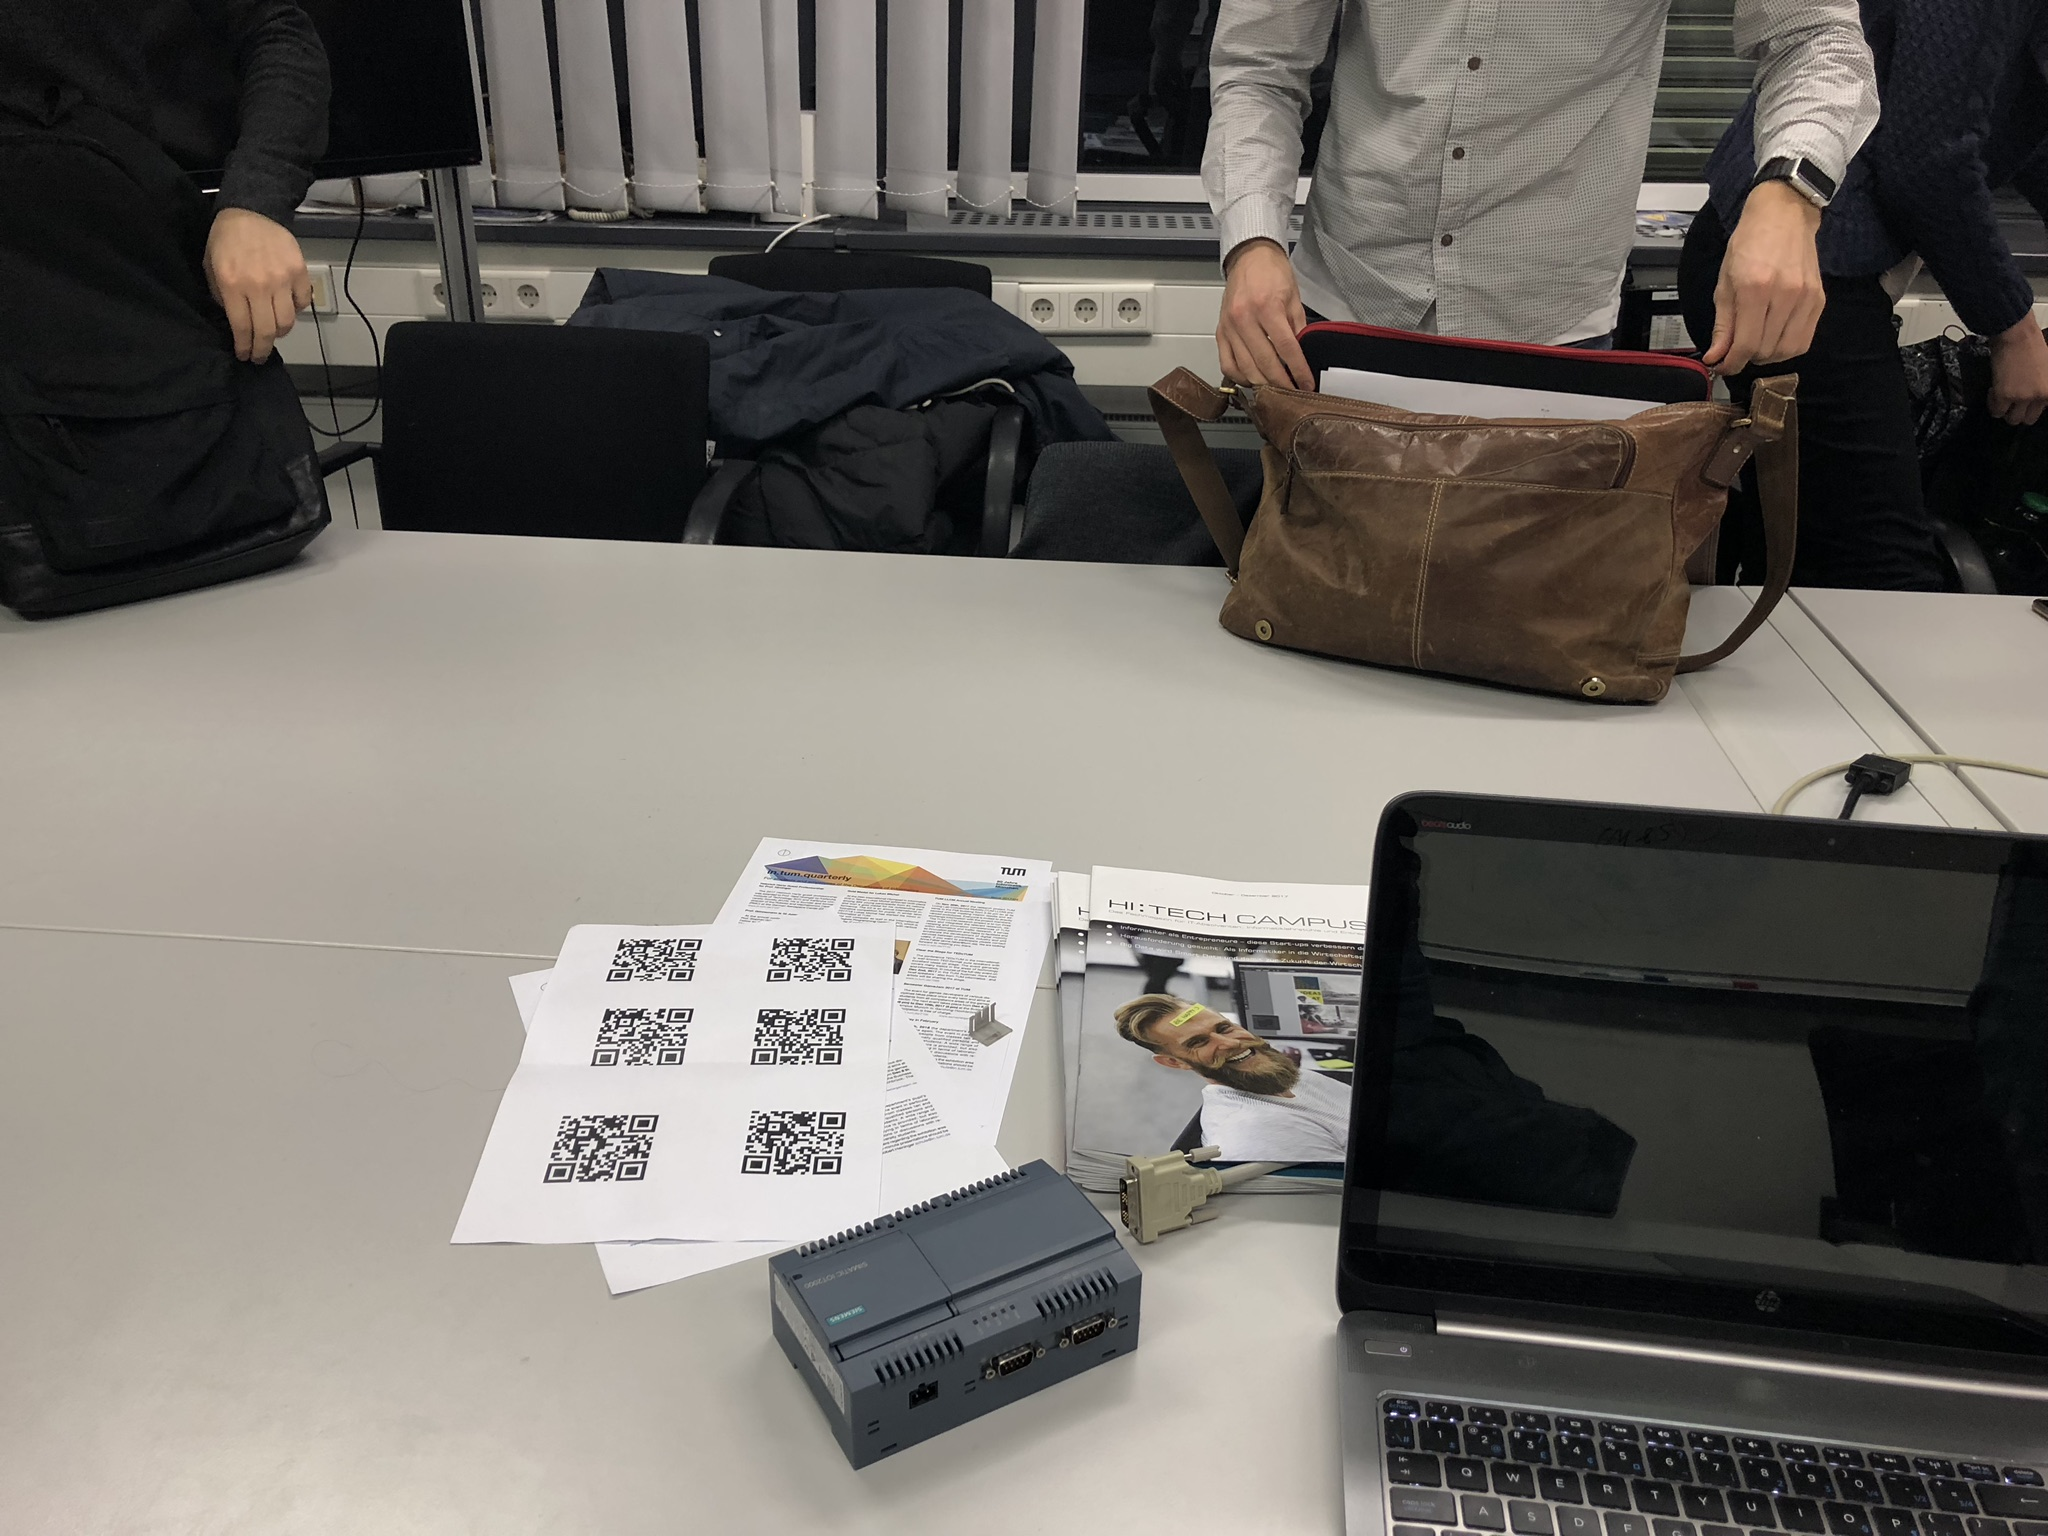device: (769, 1158, 1143, 1471)
